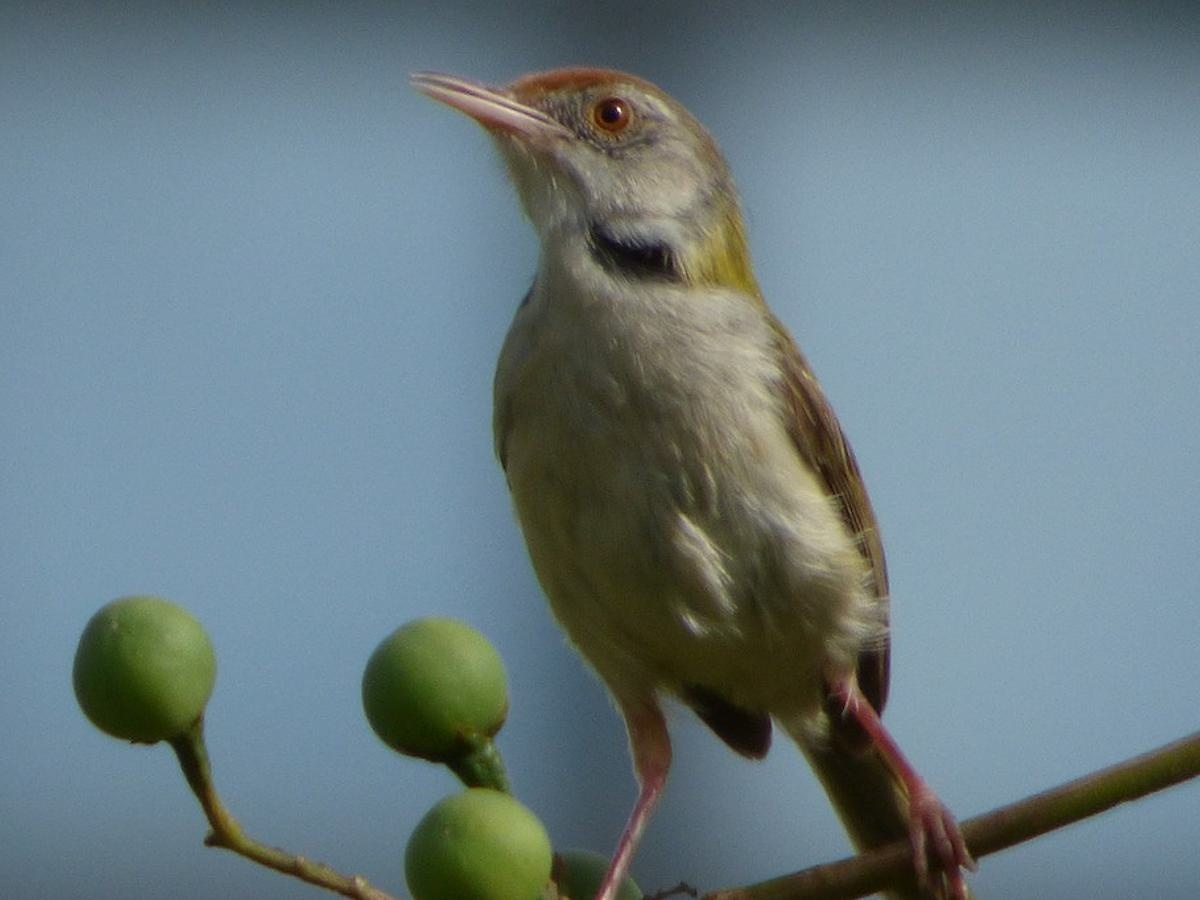tailorbird: (406, 51, 980, 900)
